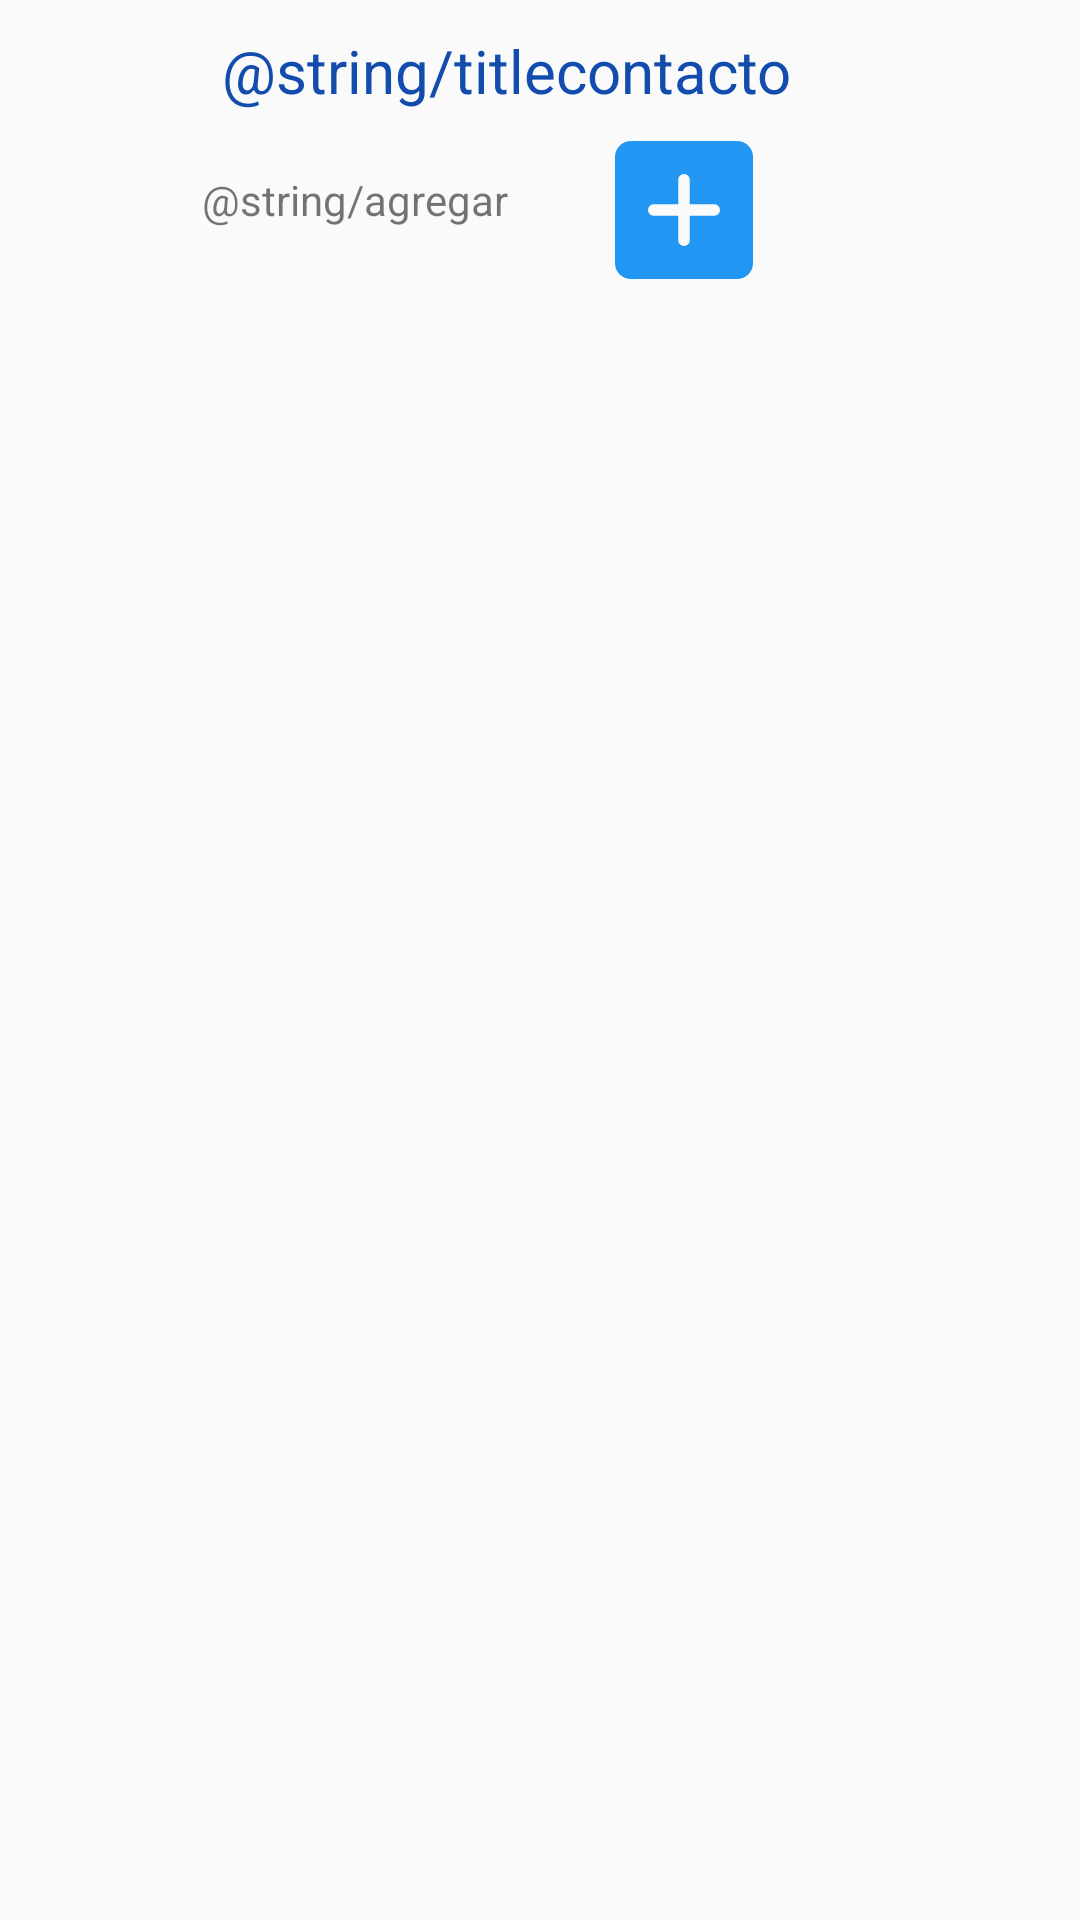

Locate icon controls on the screen. Image size 1080x1920, boxes as [x1=x1, y1=y1, x2=x2, y2=y2].
mas: [x1=615, y1=141, x2=753, y2=279]
